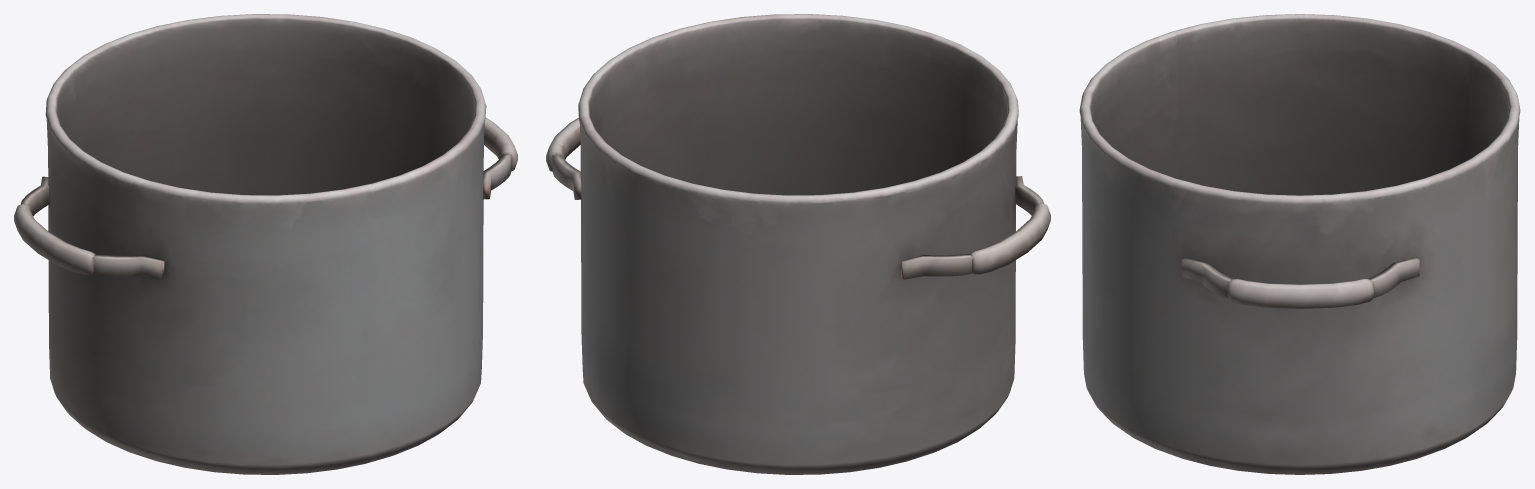
File: SM_SaucePan_Steel_Pot_01.fbx
The picture shows the model from 3 angles, left to right: view 1: azimuth 30°, elevation 25°; view 2: azimuth 150°, elevation 25°; view 3: azimuth 270°, elevation 25°; orthographic projection.
Visible parts, largest first — view 1: SM_SaucePan_Steel_Pot_01_LOD0; view 2: SM_SaucePan_Steel_Pot_01_LOD0; view 3: SM_SaucePan_Steel_Pot_01_LOD0.
Part boxes in pixels (x1,y1,x2,y2): SM_SaucePan_Steel_Pot_01_LOD0: (14, 14, 517, 474); SM_SaucePan_Steel_Pot_01_LOD0: (546, 14, 1050, 474); SM_SaucePan_Steel_Pot_01_LOD0: (1079, 14, 1520, 474).
Size of the model in its own units: 37.4 by 30.89 by 22.46.
Materials: 1 (1 with a texture image).
